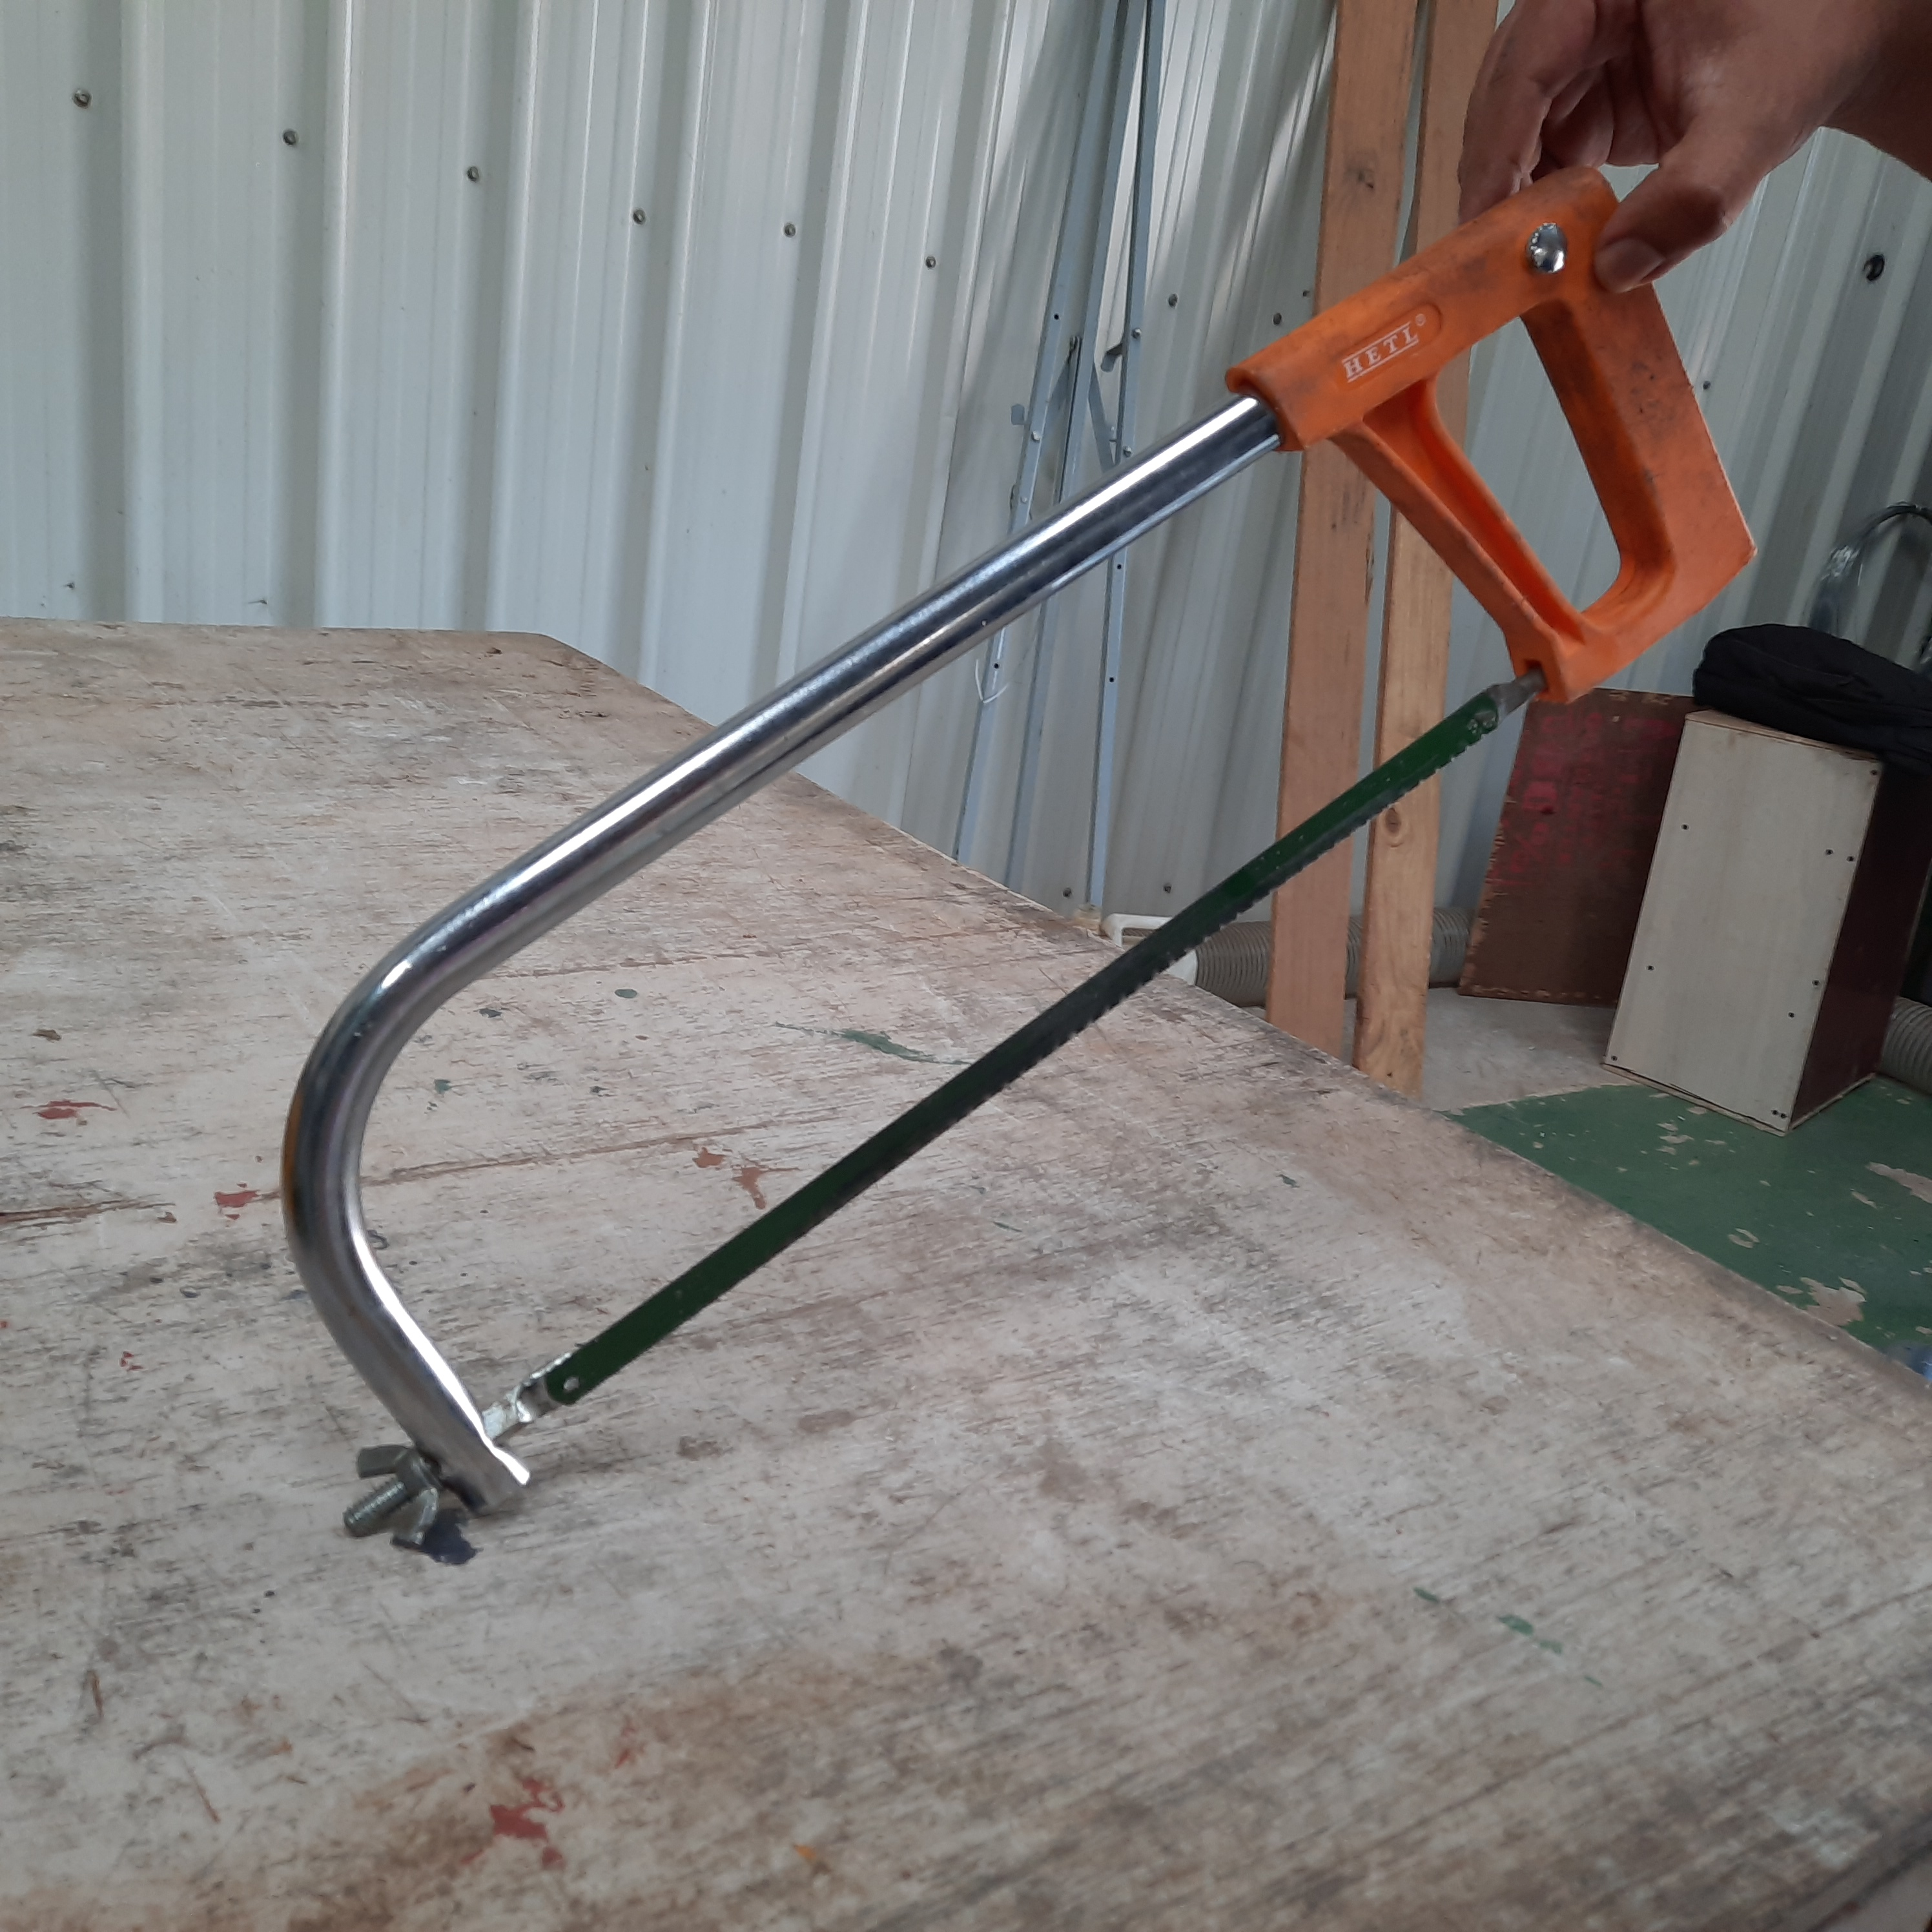Hexaframe: (246, 147, 1787, 1605)
